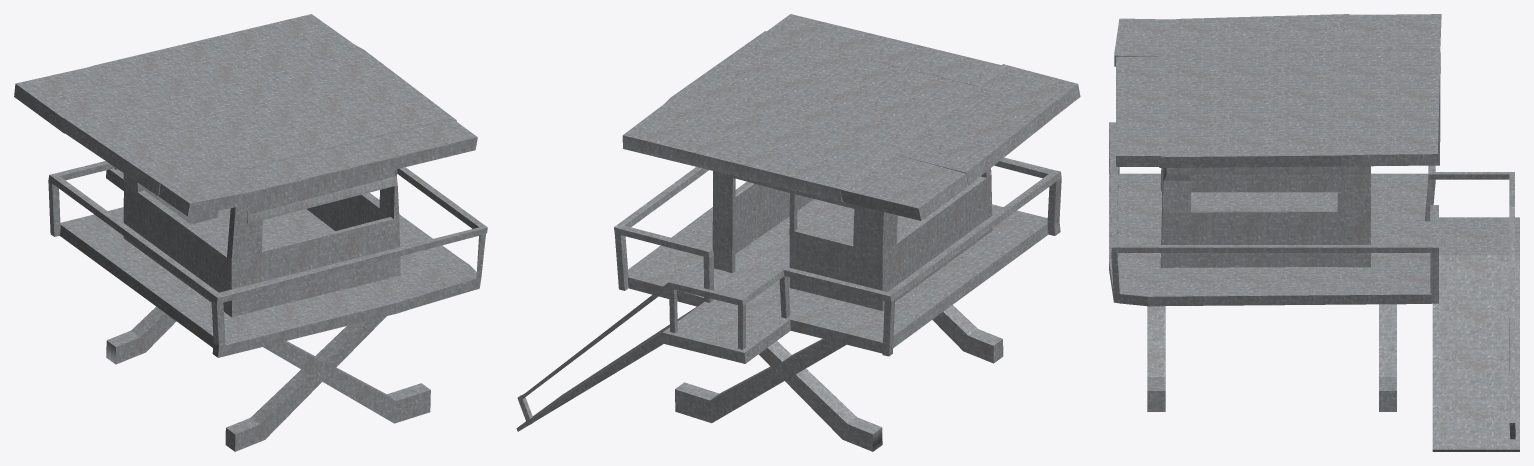
The model's file is BLOCKYGON_BEACH GUARD HOUSE.obj.
3 renders of one model, left to right at view 1: azimuth 30°, elevation 25°; view 2: azimuth 150°, elevation 25°; view 3: azimuth 270°, elevation 25°, orthographic. The views are drawn at different scales.
Parts seen in each view (by area): view 1: BLOCKYGON_BEACH GUARD HOUSE; view 2: BLOCKYGON_BEACH GUARD HOUSE; view 3: BLOCKYGON_BEACH GUARD HOUSE.
Part boxes in pixels (bbox=[...]): BLOCKYGON_BEACH GUARD HOUSE: bbox=[14, 14, 487, 451]; BLOCKYGON_BEACH GUARD HOUSE: bbox=[516, 14, 1080, 451]; BLOCKYGON_BEACH GUARD HOUSE: bbox=[1109, 14, 1519, 451].
Bounding box in the file's own units: 7.38 × 5.57 × 7.51.
